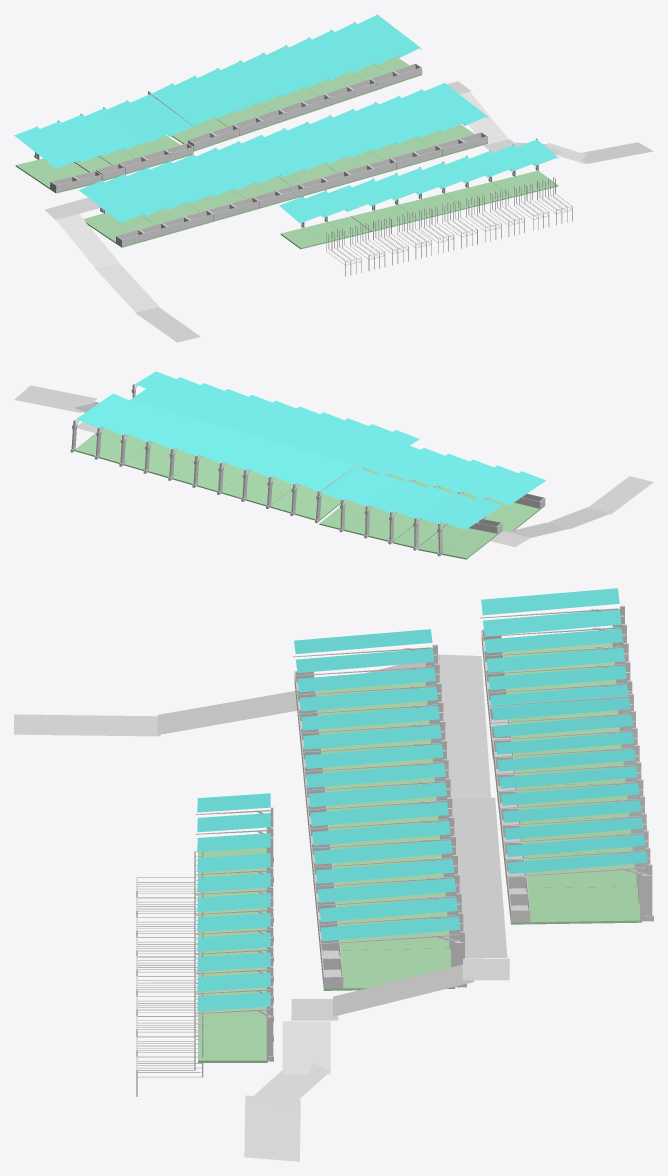
File: EcoGowanus Building 3.fbx
3 views of the same model, one above another, from view 1: azimuth 30°, elevation 25°; view 2: azimuth 150°, elevation 25°; view 3: azimuth 270°, elevation 25° (orthographic). The views are drawn at different scales.
Parts seen in each view (by area): view 1: Plane.221, Plane.222, Plane.115, Plane.165, Plane.195, Plane.155, Plane.125, Plane.145, Plane.121, Plane.161, Plane.135, Plane.131 (+50 smaller); view 2: Plane.219, Plane.223, Plane.115, Plane.165, Plane.195, Plane.155, Plane.161, Plane.121, Plane.145, Plane.135, Plane.125, Plane.131 (+54 smaller); view 3: Plane.215, Plane.220, Plane.219, Plane.223, Plane.222, Plane.213, Plane.217, Plane.195, Plane.129, Plane.191, Plane.050, Plane.185 (+49 smaller).
Boxes of the visible parts, x1,y1,x2,y2 form: Plane.221: [55, 214, 118, 268]; Plane.222: [95, 263, 159, 312]; Plane.115: [79, 180, 143, 223]; Plane.165: [151, 83, 214, 126]; Plane.195: [14, 127, 78, 168]; Plane.155: [198, 68, 260, 111]; Plane.125: [335, 22, 397, 65]; Plane.145: [244, 53, 306, 96]; Plane.121: [358, 14, 420, 58]; Plane.161: [175, 76, 237, 119]; Plane.135: [289, 38, 351, 81]; Plane.131: [312, 30, 374, 73]; Plane.219: [14, 385, 96, 412]; Plane.223: [588, 476, 653, 514]; Plane.115: [485, 471, 545, 505]; Plane.165: [296, 457, 355, 491]; Plane.195: [441, 497, 502, 529]; Plane.155: [247, 443, 304, 478]; Plane.161: [272, 450, 329, 485]; Plane.121: [76, 393, 133, 429]; Plane.145: [198, 429, 255, 464]; Plane.135: [150, 415, 206, 450]; Plane.125: [101, 400, 158, 435]; Plane.131: [125, 408, 182, 443]; Plane.215: [452, 797, 507, 958]; Plane.220: [438, 654, 490, 798]; Plane.219: [244, 1095, 300, 1161]; Plane.223: [14, 714, 160, 736]; Plane.222: [157, 691, 297, 734]; Plane.213: [333, 964, 474, 1016]; Plane.217: [282, 1021, 330, 1074]; Plane.195: [481, 588, 619, 615]; Plane.129: [509, 903, 642, 924]; Plane.191: [483, 609, 621, 636]; Plane.050: [320, 948, 450, 969]; Plane.185: [484, 628, 623, 653].
Bounding box in the file's own units: 4833 × 944 × 2831.
